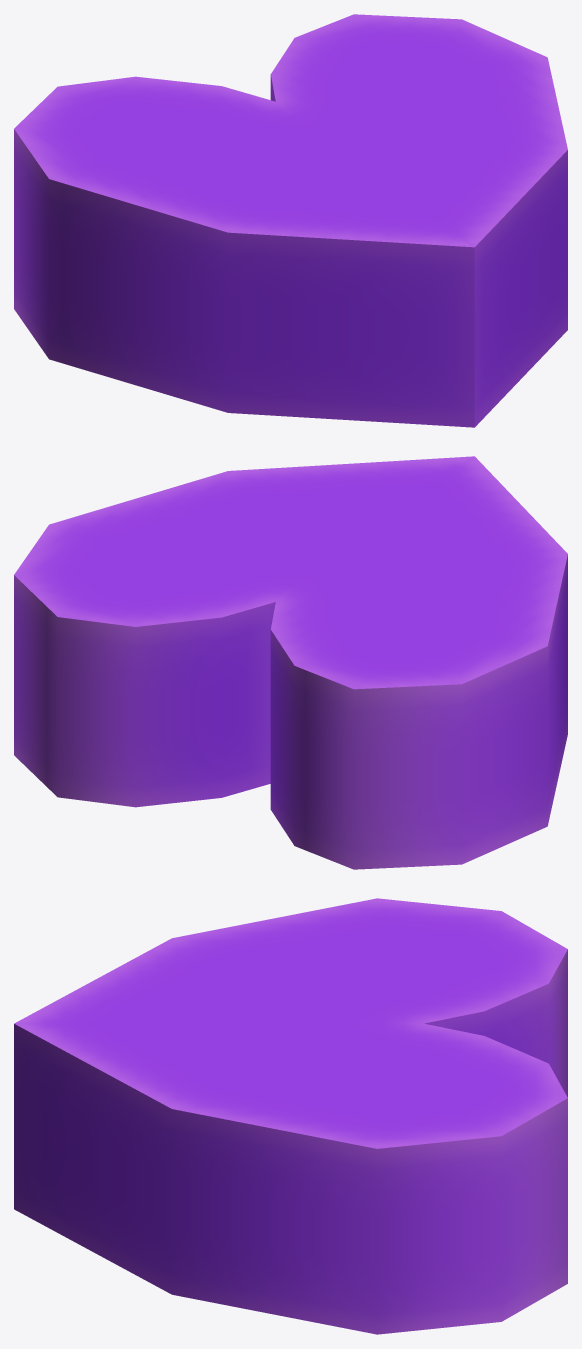
The model's file is jsf_ChocolateDecoration_06.fbx.
3 renders of one model, top to bottom at view 1: azimuth 30°, elevation 25°; view 2: azimuth 150°, elevation 25°; view 3: azimuth 270°, elevation 25°, orthographic. The views are drawn at different scales.
Visible parts, largest first — view 1: jsf_ChocolateDecoration_06; view 2: jsf_ChocolateDecoration_06; view 3: jsf_ChocolateDecoration_06.
Boxes of the visible parts, x1,y1,x2,y2 form: jsf_ChocolateDecoration_06: (14, 14, 567, 427); jsf_ChocolateDecoration_06: (14, 456, 567, 869); jsf_ChocolateDecoration_06: (14, 898, 567, 1334).
Bounding box in the file's own units: 4.34 × 1.5 × 4.06.
